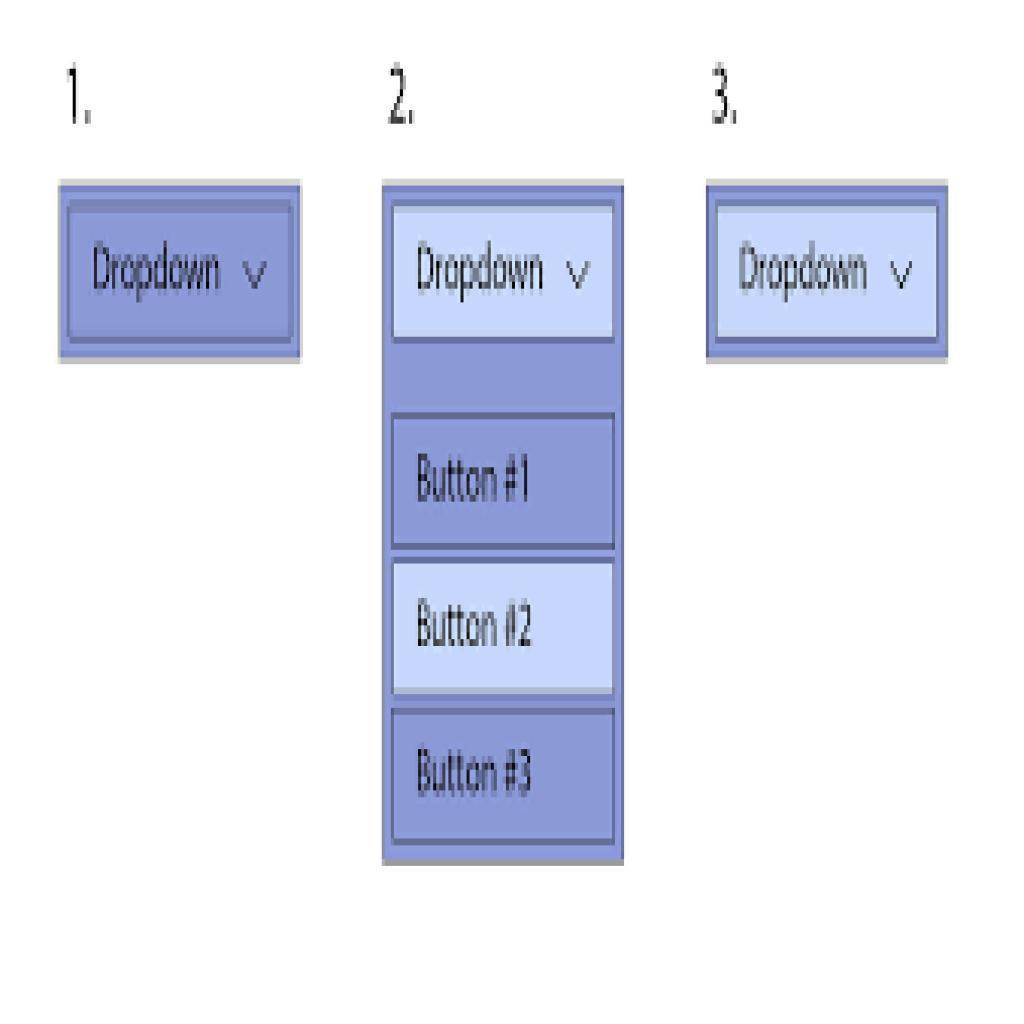button: (392, 561, 615, 695), (391, 711, 614, 845), (391, 417, 612, 548)
dropdown: (710, 193, 946, 346), (388, 196, 622, 344), (67, 201, 296, 346)
